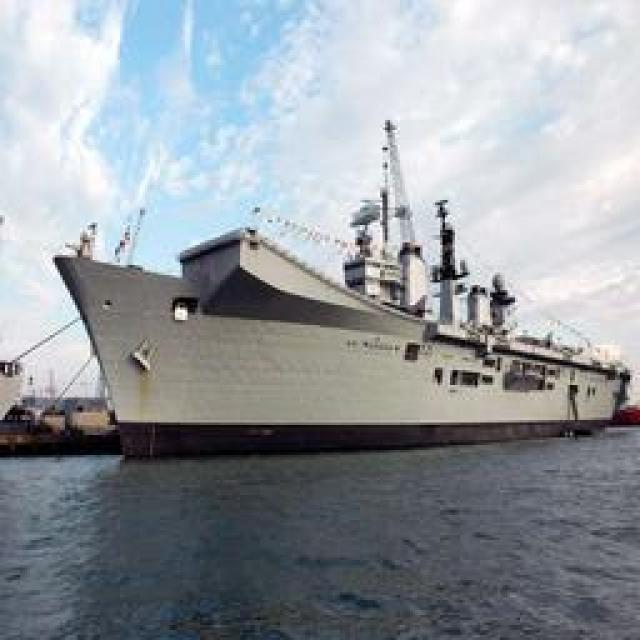CIV_Ship: (64, 128, 624, 444)
